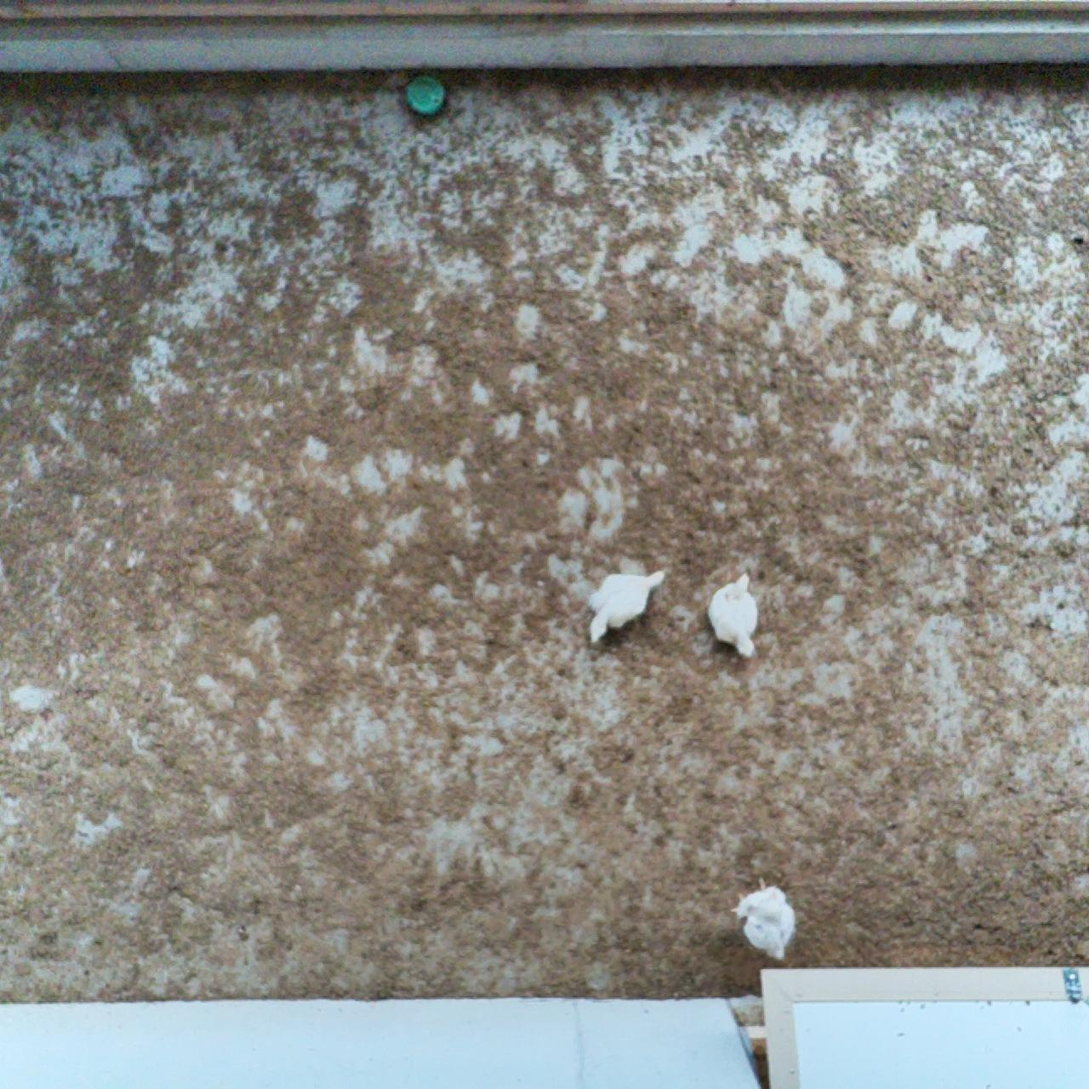chicken: (585, 560, 670, 648), (731, 871, 799, 962), (706, 570, 763, 668)
